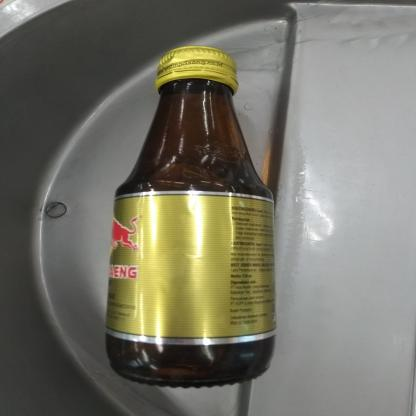glass: (100, 42, 280, 392)
